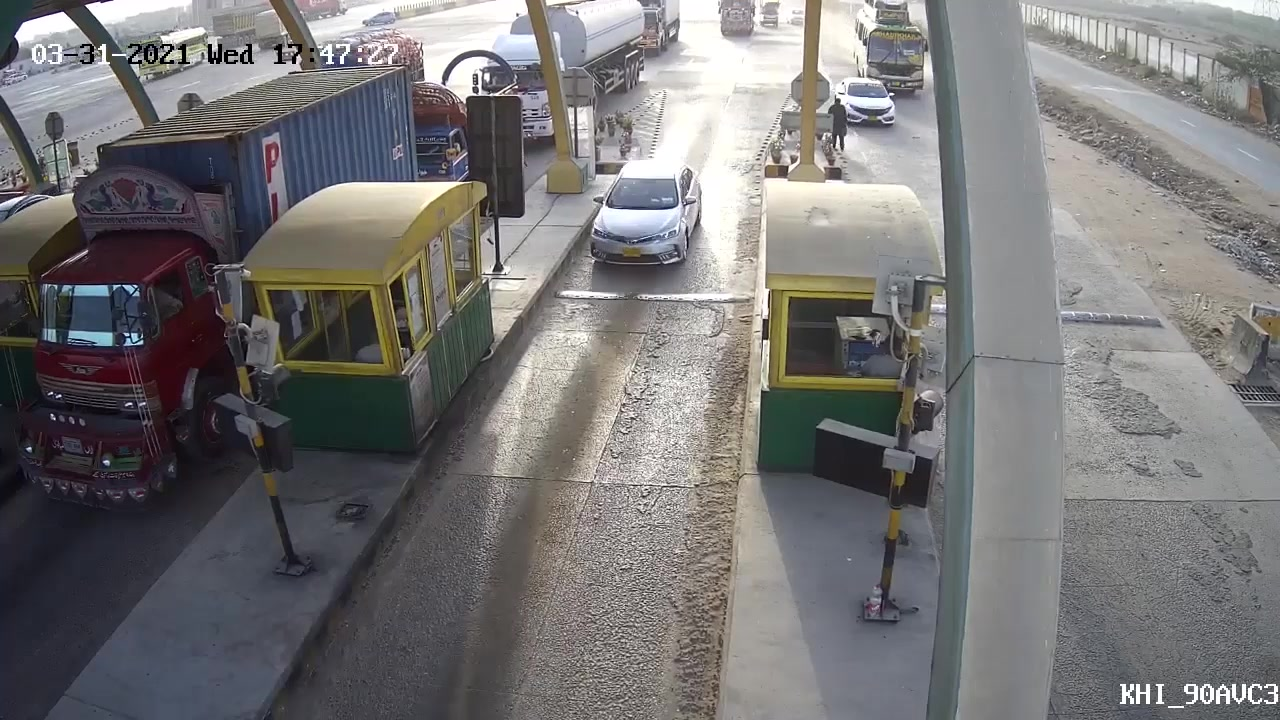F1: (559, 151, 713, 292)
